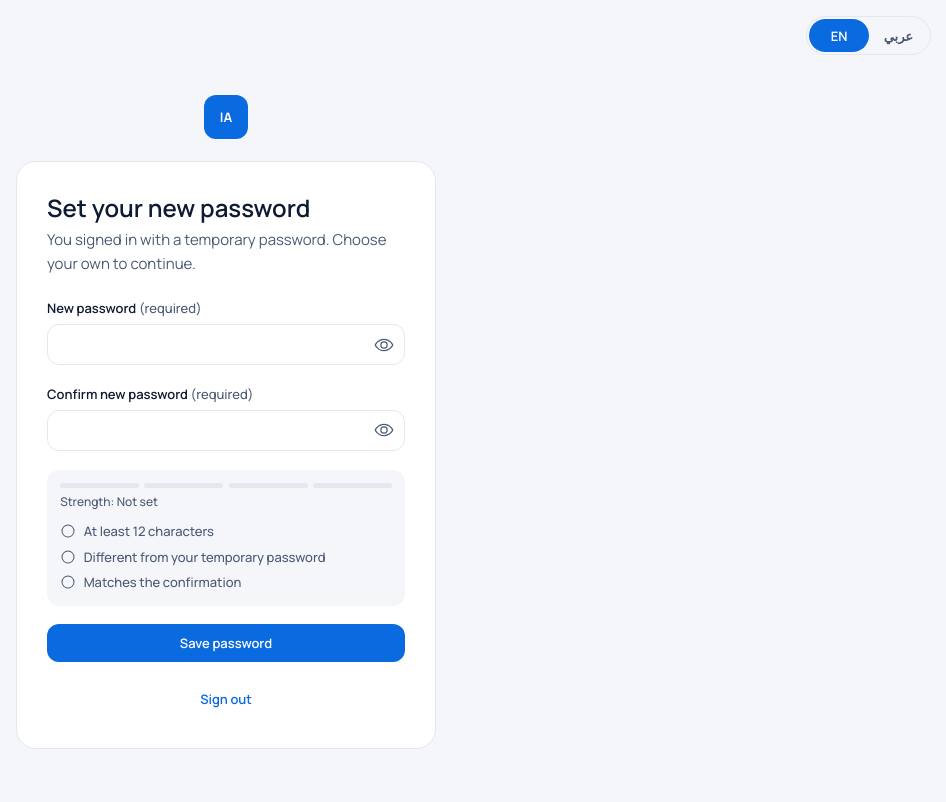
Test: set-password page › shows the server's password rule on the field and does not navigate
Click the password field with id "field-new_password": click(226, 345) [47,324,405,365]
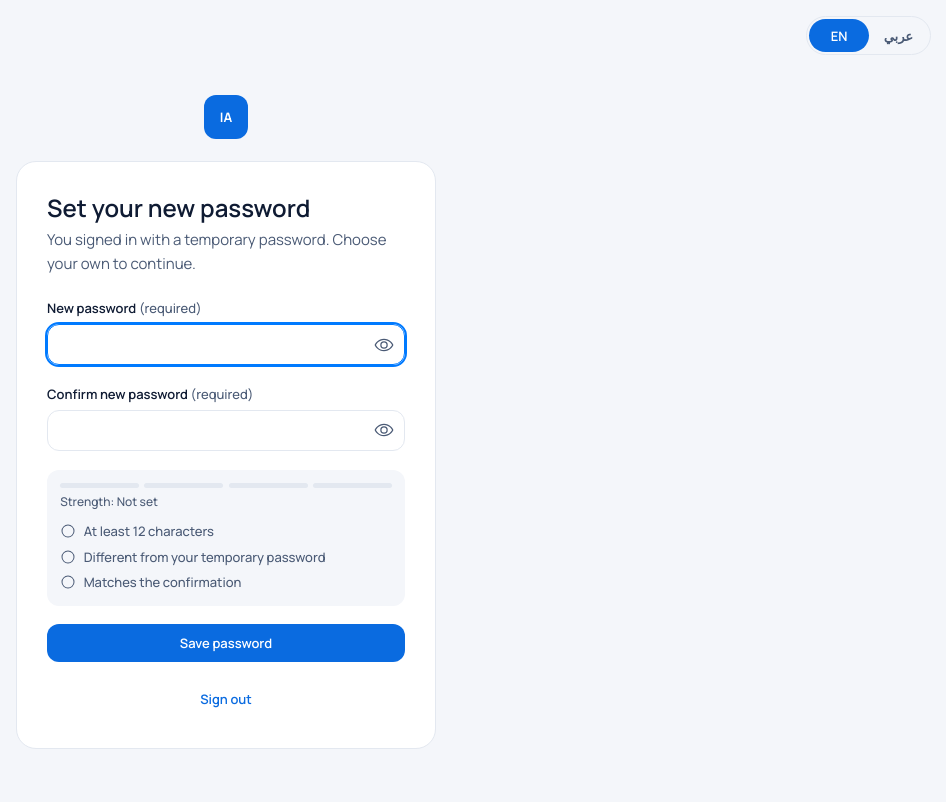
Type keys "password12345"
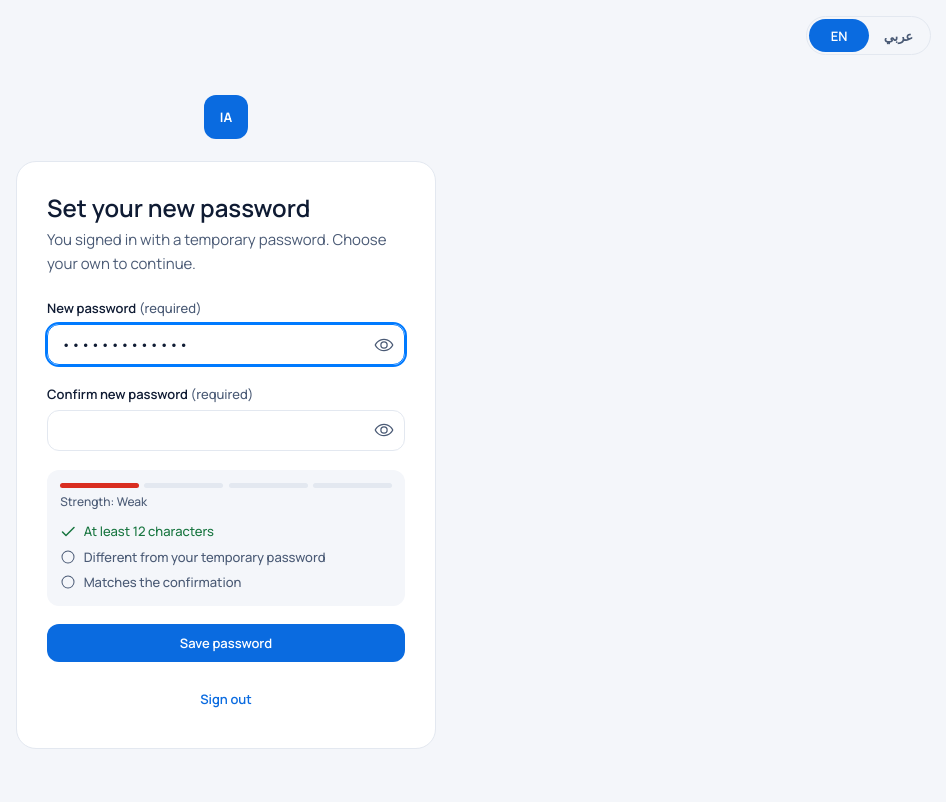
Click the password field with id "field-confirm_password": click(226, 430) [47,410,405,451]
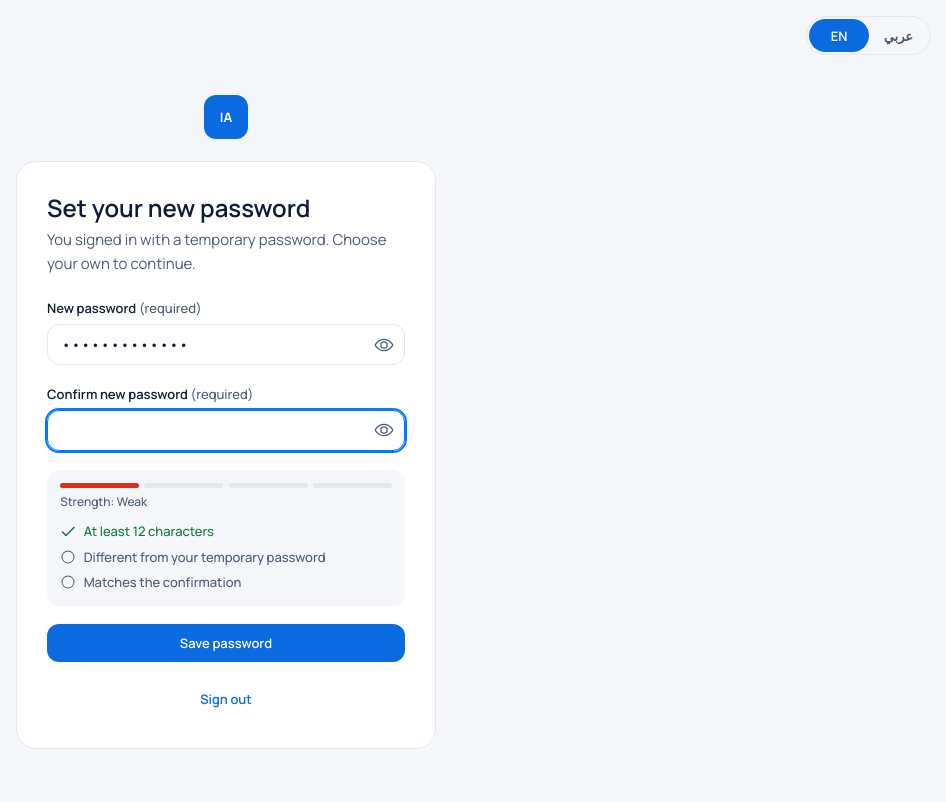
Type keys "password12345"
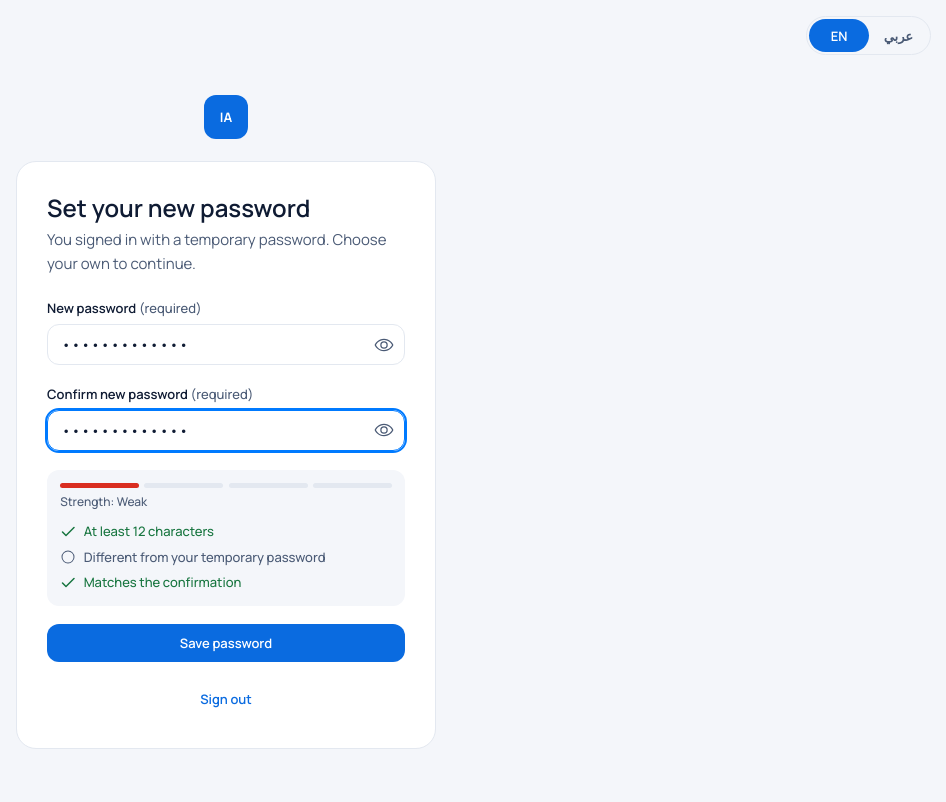
Click the button "Save password": click(226, 643) [47,624,405,662]
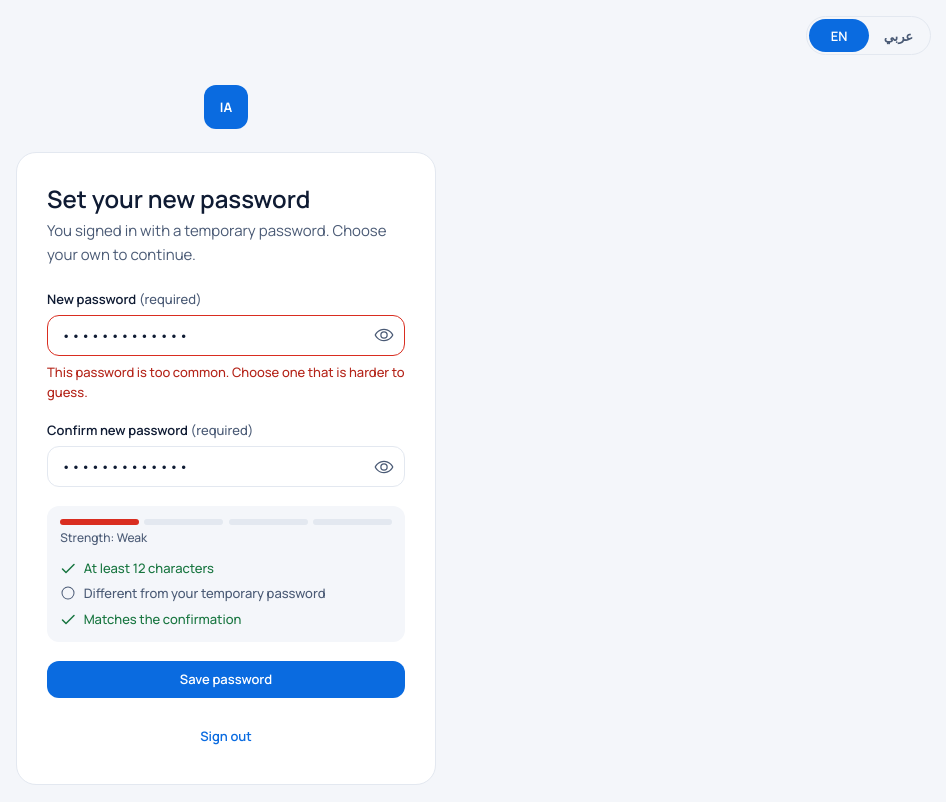
Expected: the message shows "This password is too common.", [47,362,405,400]
